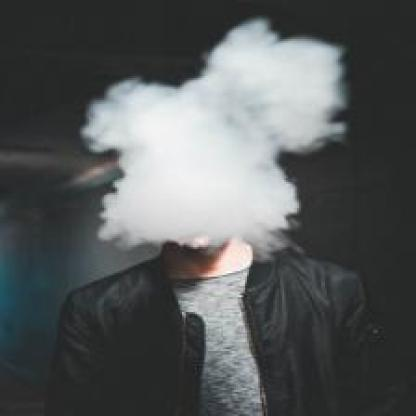Fire: (100, 20, 338, 244)
